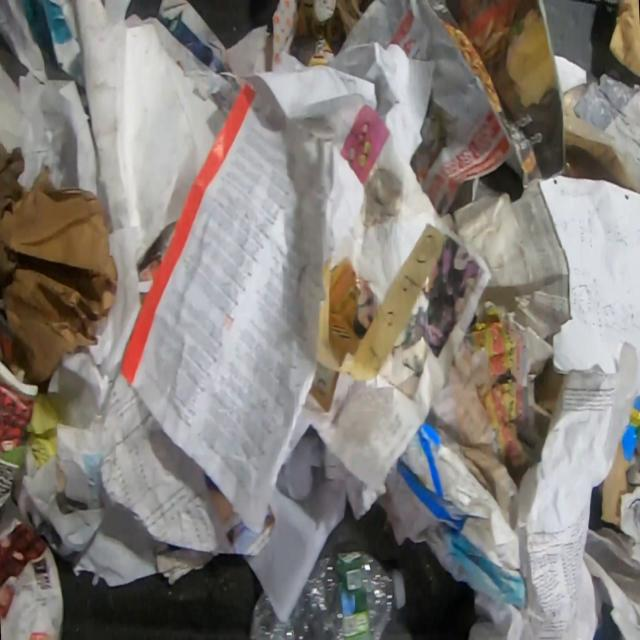cardboard: (0, 140, 117, 385), (599, 394, 640, 529), (608, 0, 640, 80)
rigid_plastic: (249, 548, 407, 640)
